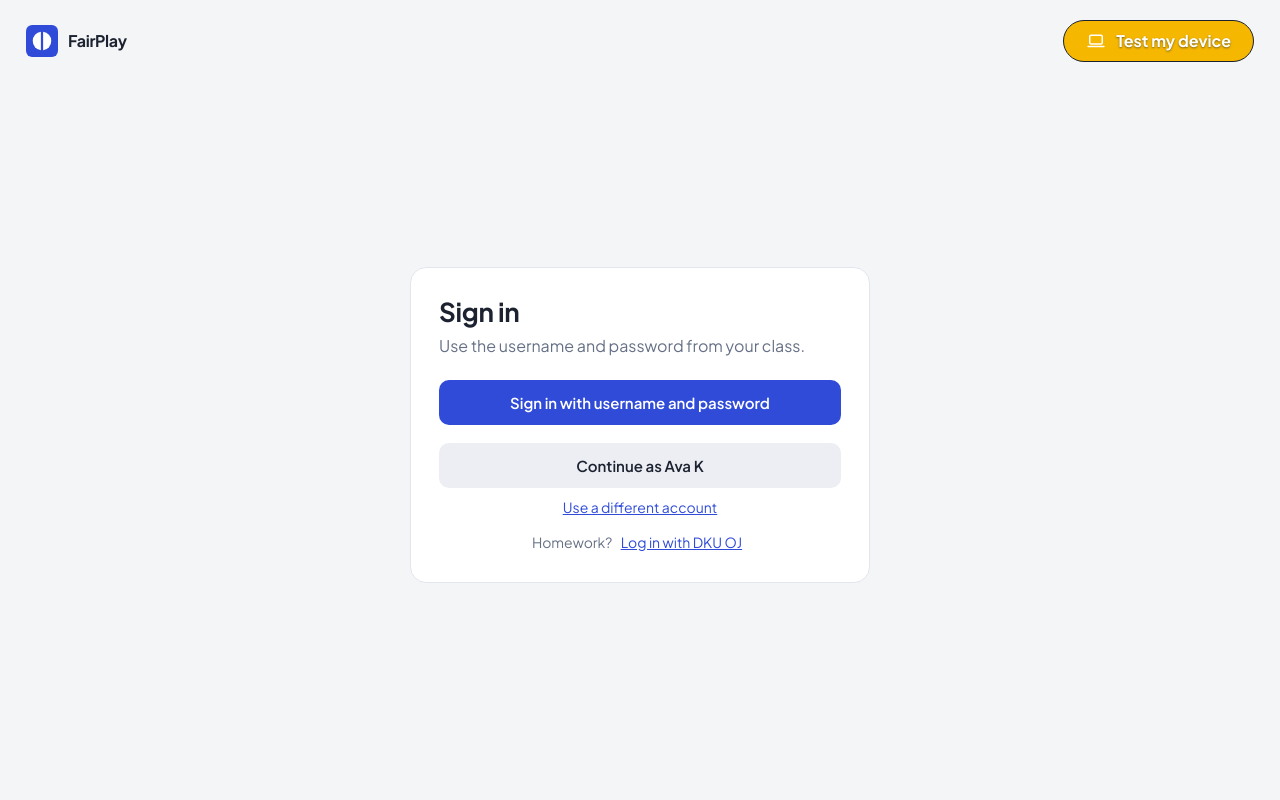
Test case: Continue as › success: exchanges, stores the rotated token and opens homework
Click the button "Continue as Ava K".
click(640, 465)  # box [439, 443, 841, 488]
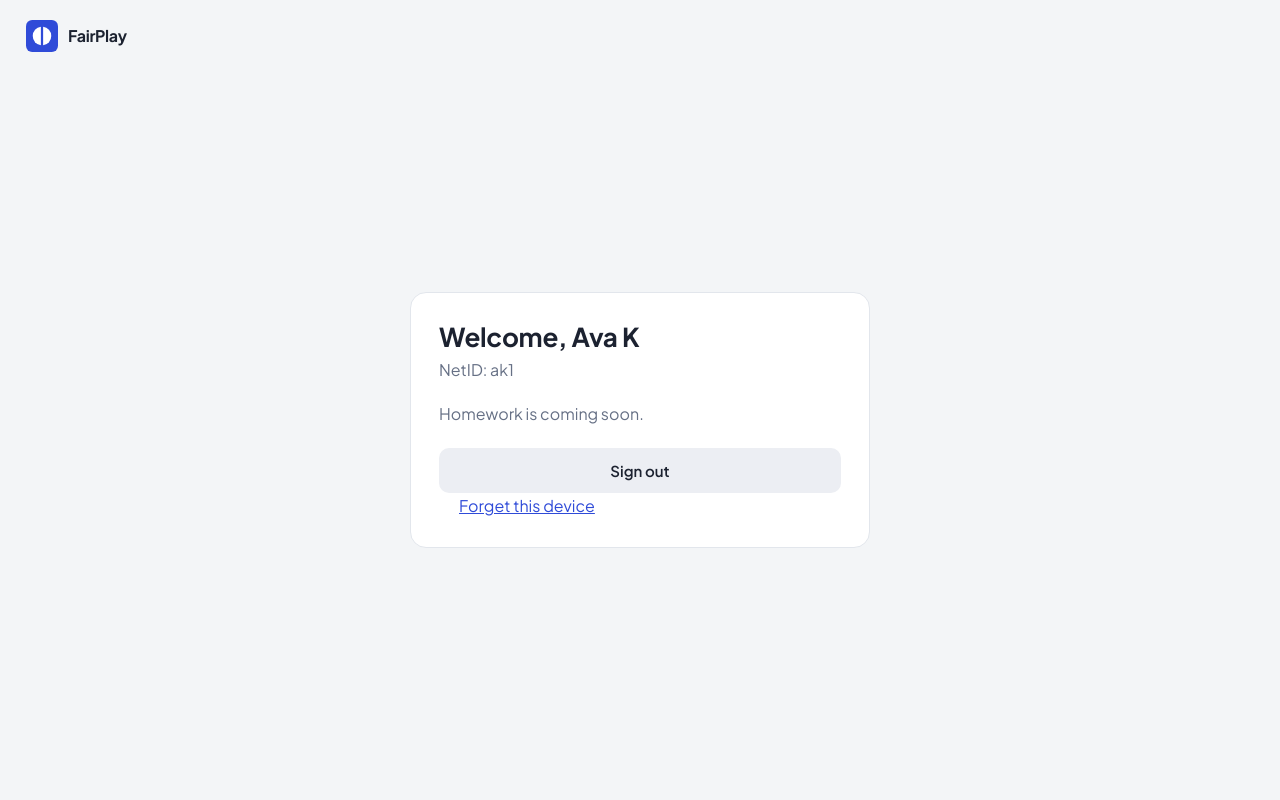
Expected: the heading "Welcome, Ava K" is shown, [439, 320, 639, 353]
